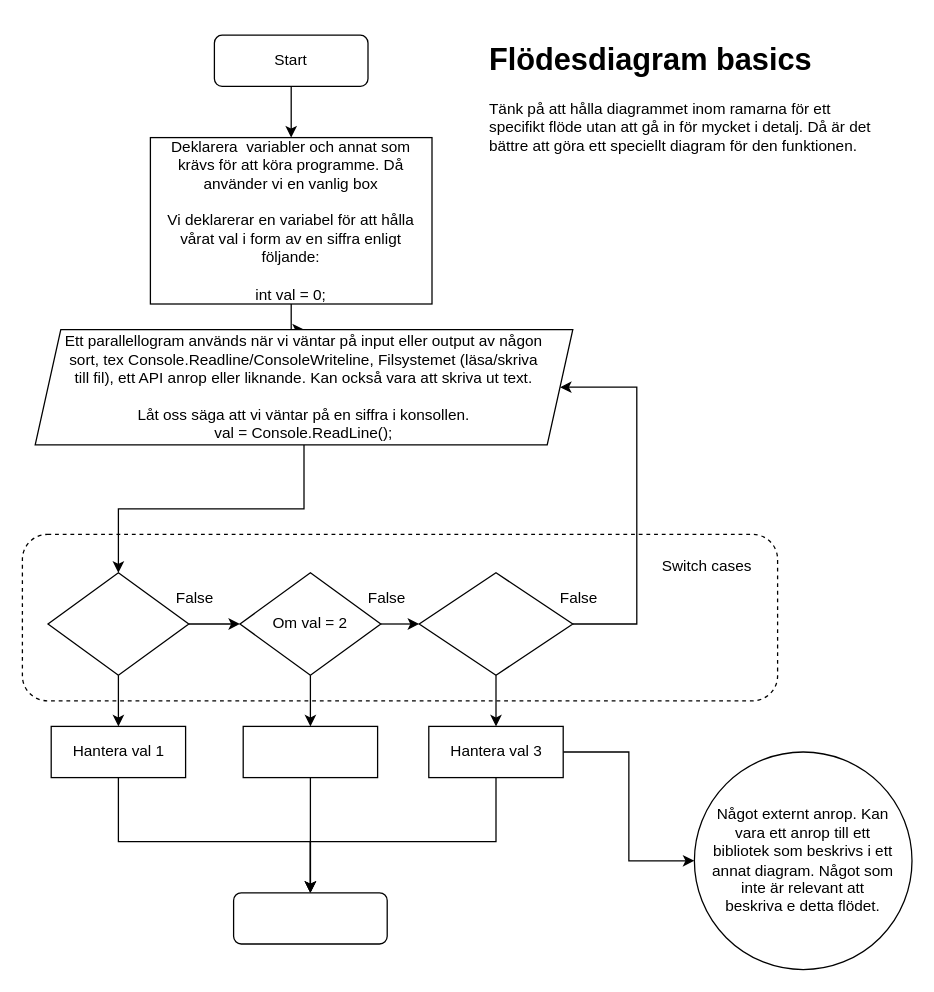
This 934x992 diagram has some shape labels left out. The box of each missing label's shape, as (x1, y1, x2, y2) in pixels:
Hantera val 2: (242, 725, 378, 778)
Om val = 1: (47, 572, 189, 675)
Om val = 3: (418, 572, 573, 675)
Stop: (232, 892, 387, 944)
